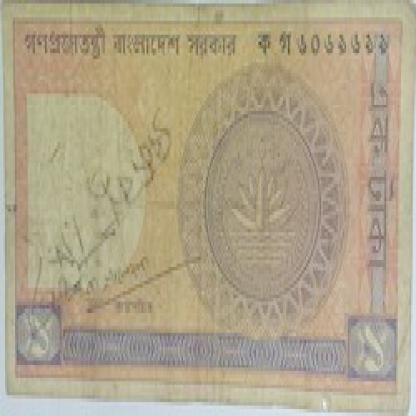One Taka: (363, 69, 396, 281), (346, 315, 396, 382), (17, 302, 60, 364)
